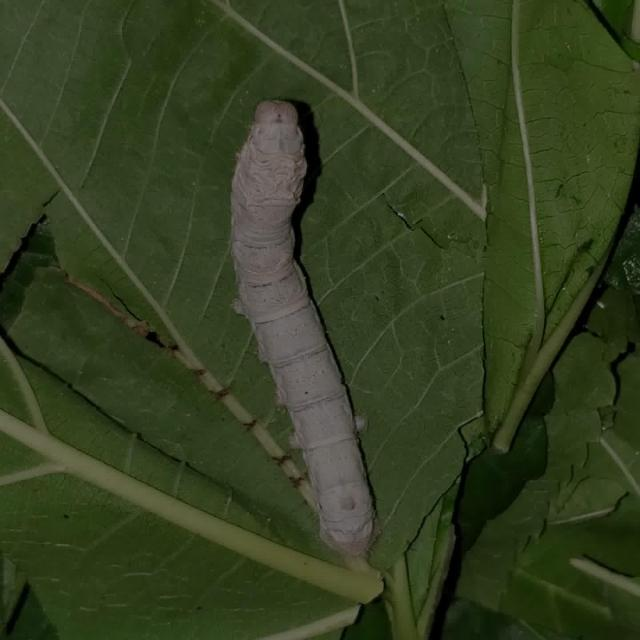Healthy: (208, 88, 386, 556)
